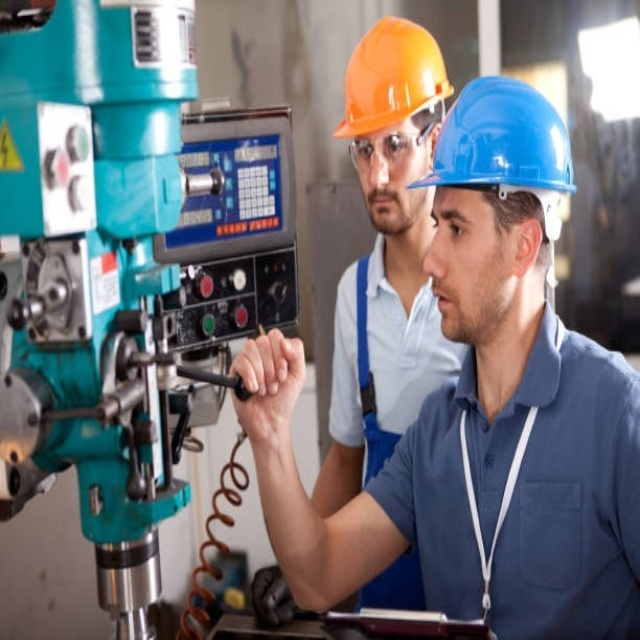Gafas: (349, 114, 439, 175)
Sin_gafas: (429, 191, 493, 243)
Sin_guantes: (228, 325, 307, 448)
Sin_mascara: (424, 270, 472, 337), (365, 185, 402, 226)
